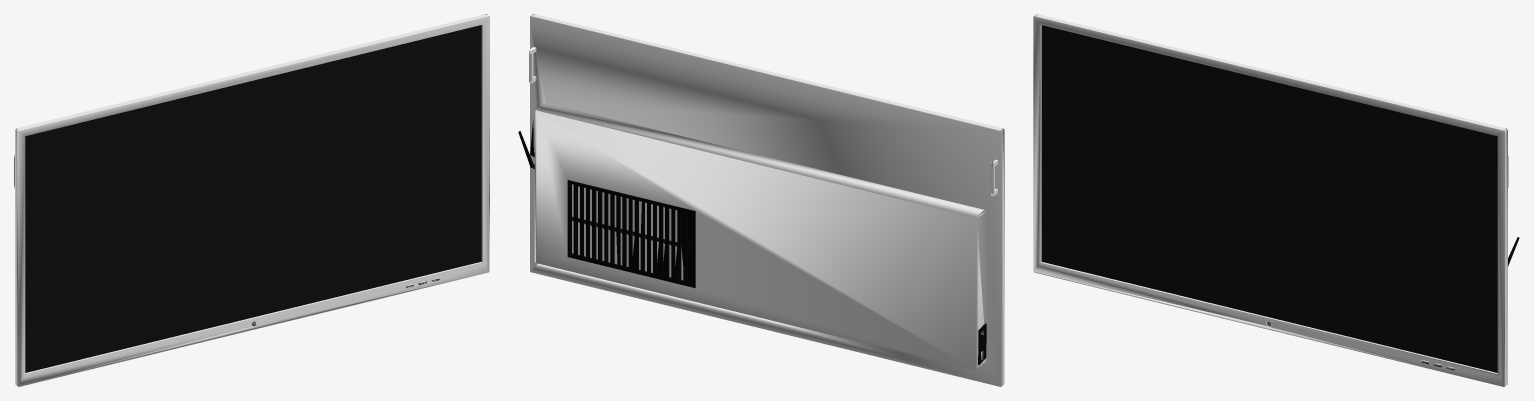
Rendered from dev-interactive-panel_lod2.glb.
3 views of the same model, side by side, from view 1: azimuth 30°, elevation 25°; view 2: azimuth 150°, elevation 25°; view 3: azimuth 330°, elevation 25° (orthographic).
Visible parts, largest first — view 1: body; view 2: body; view 3: body.
Part boxes in pixels (<box>): body: <box>14,14,489,386</box>; body: <box>518,14,1004,386</box>; body: <box>1033,14,1519,386</box>.
Size of the model in its own units: 1.49 by 0.7656 by 0.0724.
Materials: 10 (2 with a texture image).
